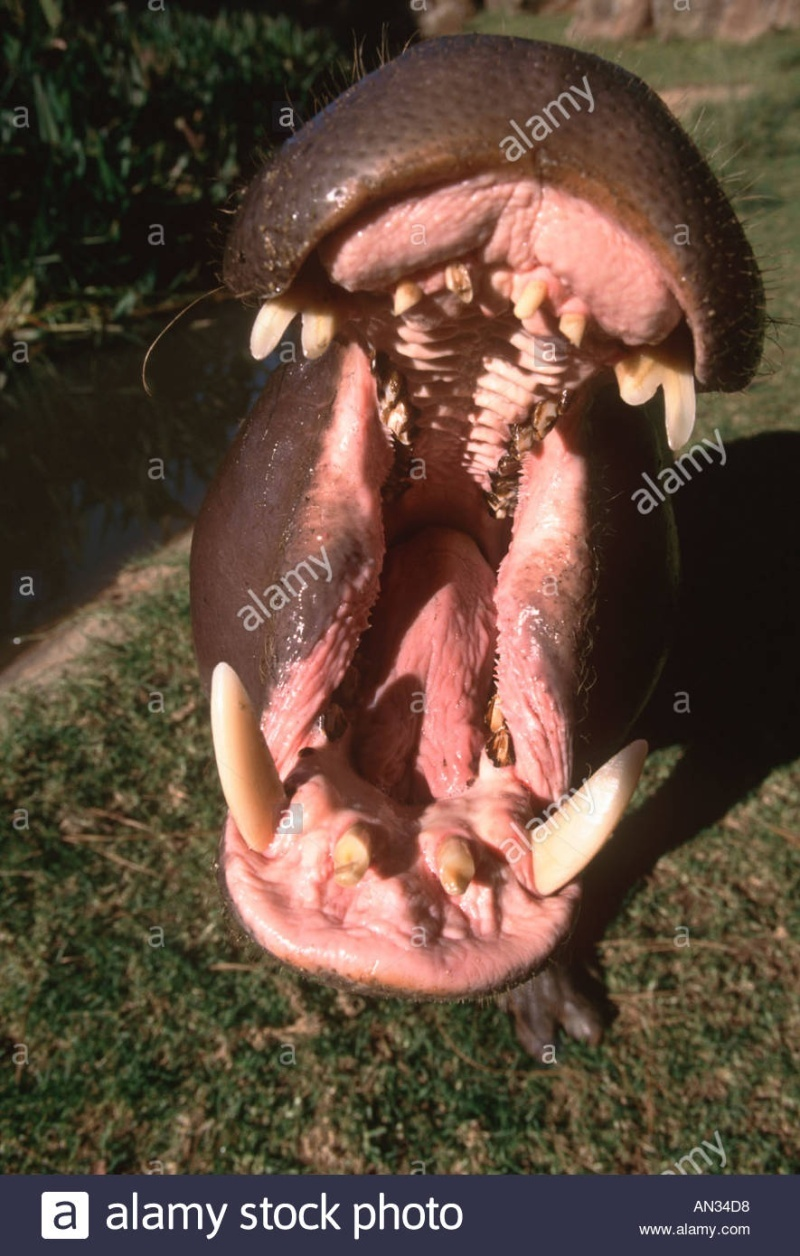hipopotamo: (100, 20, 800, 1042)
